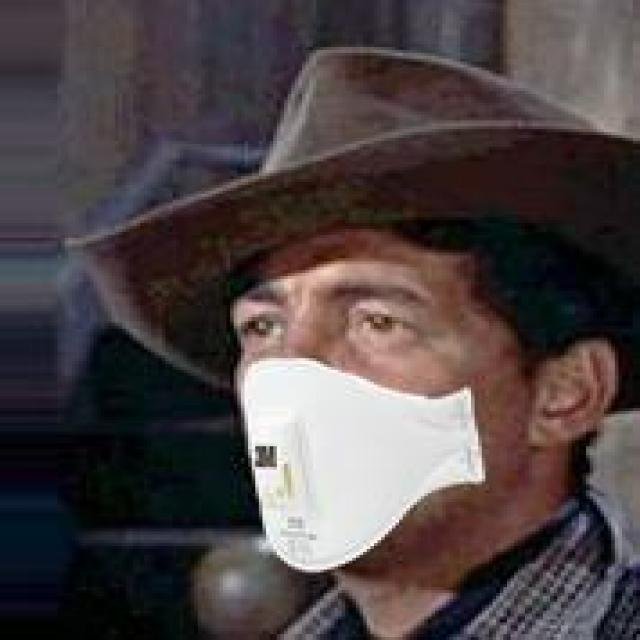mask: (158, 80, 640, 576)
